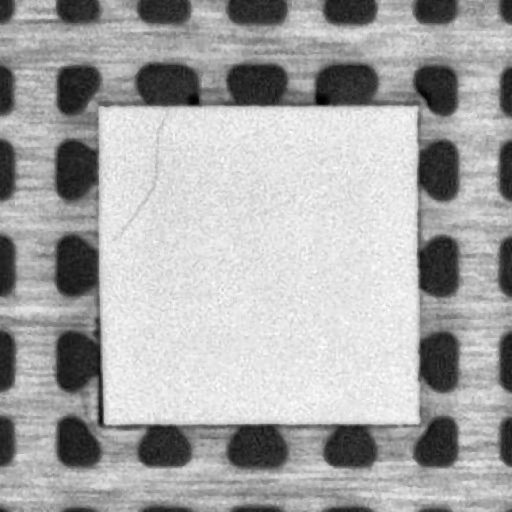DIE_CRACK: (118, 118, 164, 235)
